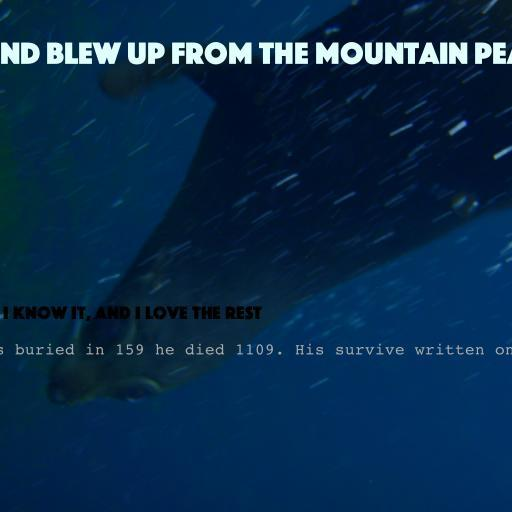Courier: (0, 343, 512, 358)
Phosphate: (0, 42, 512, 65), (2, 306, 262, 321)
